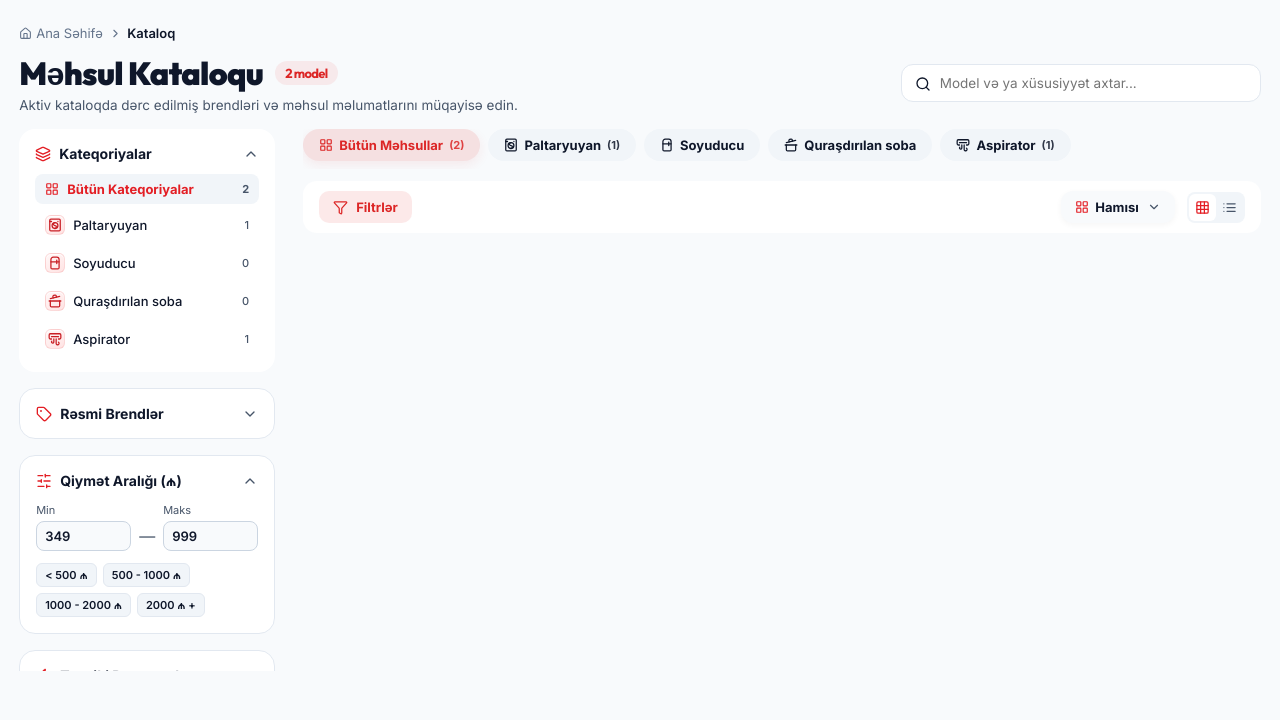
Test case: Item 20: Catalog Refinements & Comparison System Tests › 3. Custom sort dropdown opens with rich options and allows selecting options
Note: Click to open custom popover
Click the button with class "catalog-sort-custom-btn".
click(1118, 207)  # box [1061, 191, 1175, 223]
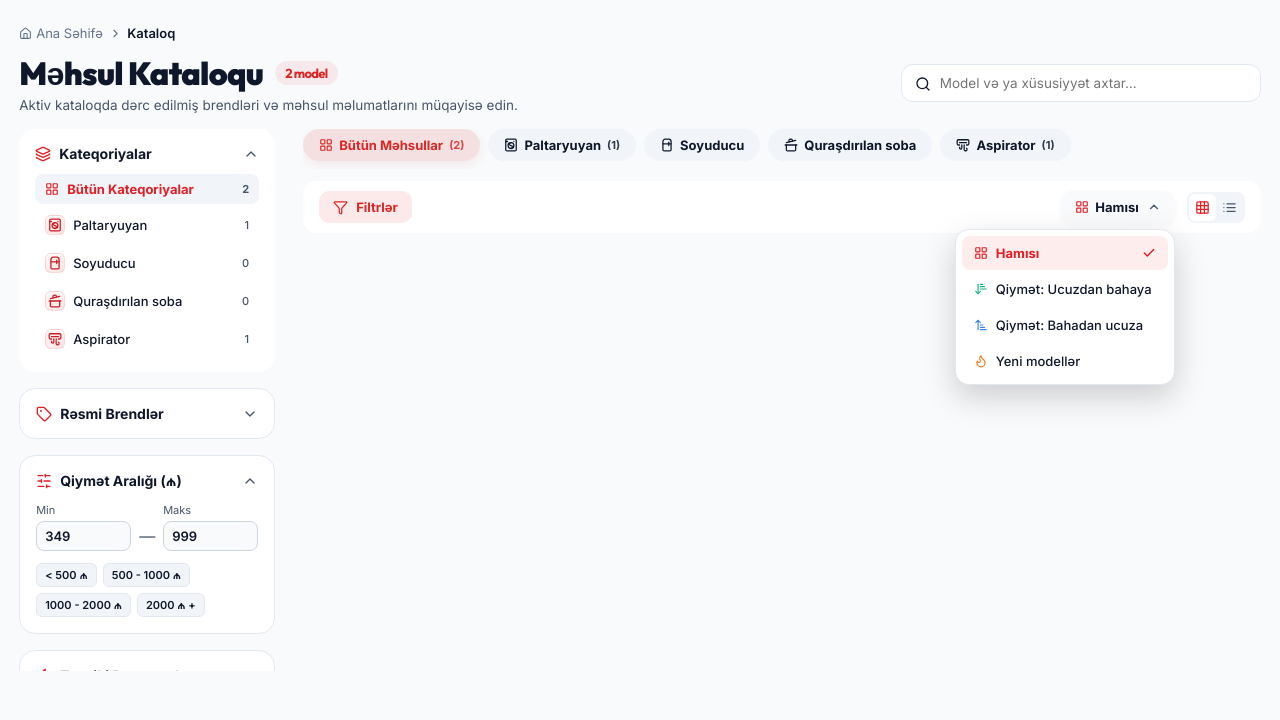
Check: the text "Qiymət: Ucuzdan bahaya" is shown, box [996, 281, 1152, 297]
Check: the text "Qiymət: Bahadan ucuza" is shown, box [996, 317, 1143, 333]
Check: the text "Yeni modellər" is shown, box [996, 353, 1080, 369]
Note: Select "Qiymət: Ucuzdan bahaya"
Click the button "Qiymət: Ucuzdan bahaya".
click(1065, 289)  # box [962, 272, 1168, 306]
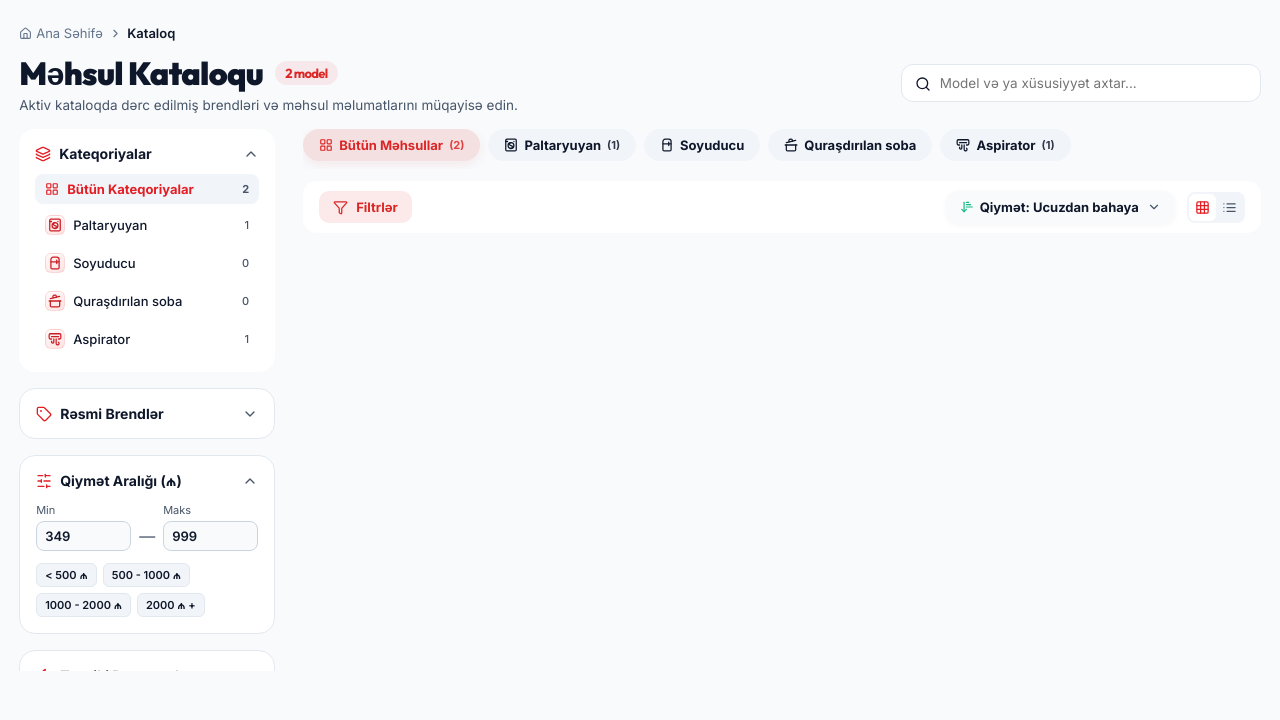
Check: the text "Qiymət: Ucuzdan bahaya" is shown, box [980, 199, 1139, 215]
